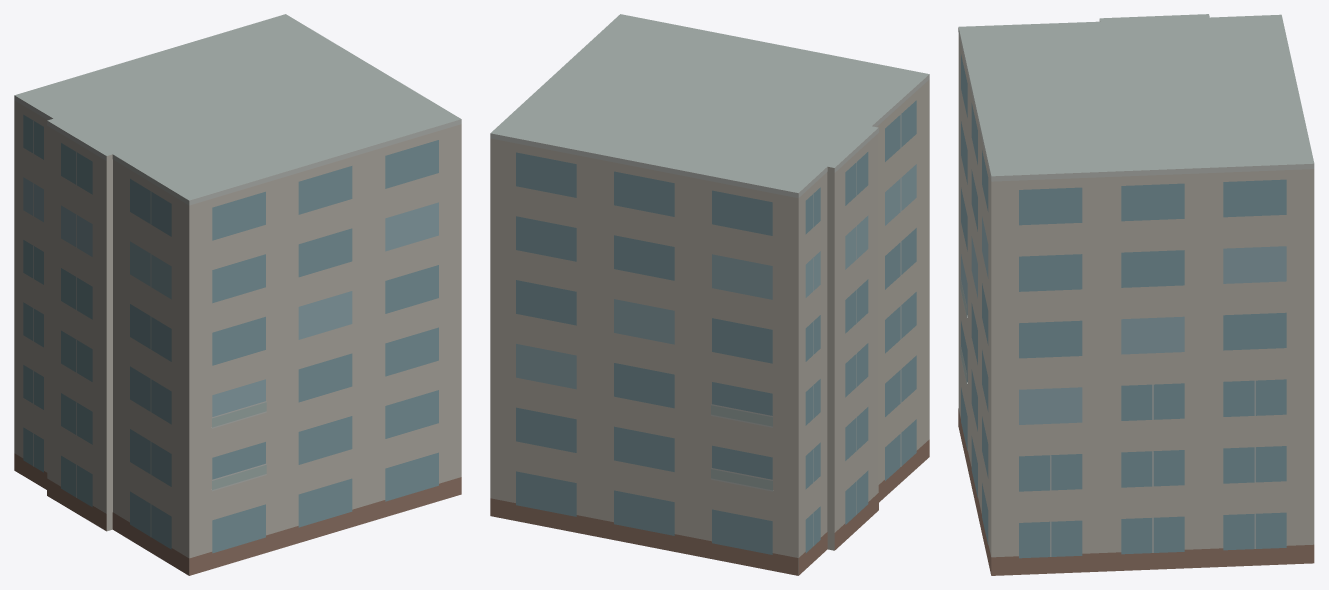
Rendered from survey-upis-32911128.glb.
3 views of the same model, side by side, from view 1: azimuth 30°, elevation 25°; view 2: azimuth 150°, elevation 25°; view 3: azimuth 270°, elevation 25° (orthographic). The views are drawn at different scales.
Parts seen in each view (by area): view 1: survey-upis-32911128.tmp; view 2: survey-upis-32911128.tmp; view 3: survey-upis-32911128.tmp.
Part boxes in pixels (x1,y1,x2,y2): survey-upis-32911128.tmp: (14,14,461,575); survey-upis-32911128.tmp: (490,14,929,575); survey-upis-32911128.tmp: (958,14,1314,575).
Bounding box in the file's own units: 16.12 × 18.5 × 14.95.
